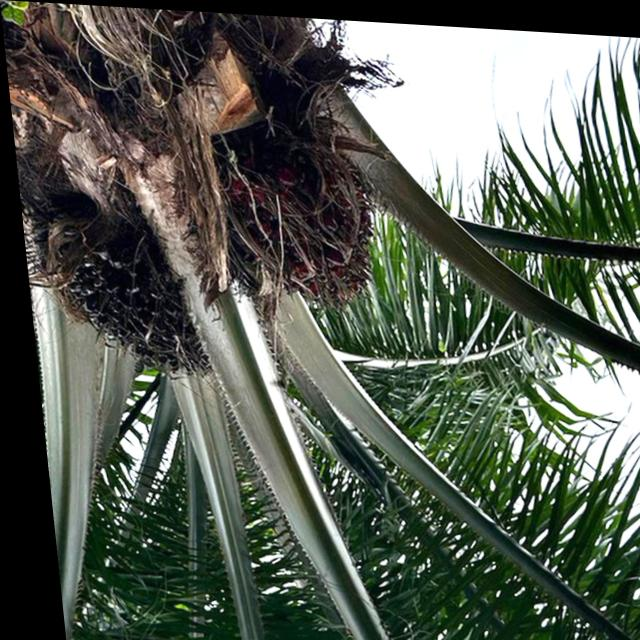ripe: (219, 135, 378, 313), (45, 223, 205, 394)
